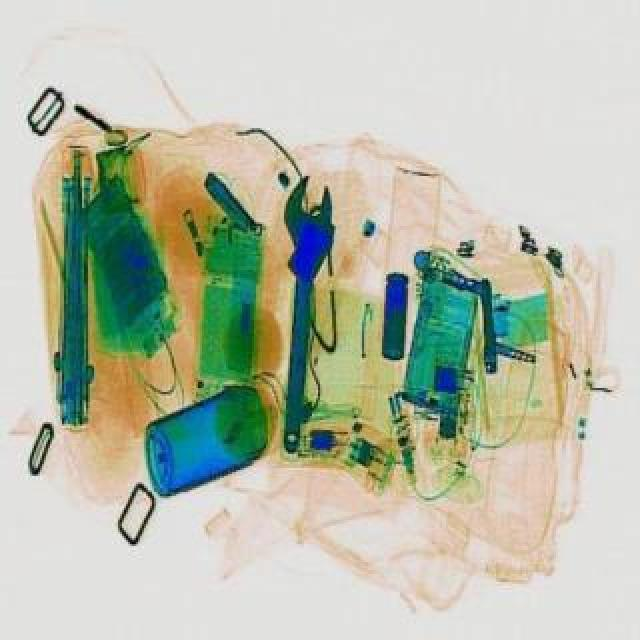scissors: (262, 176, 340, 458)
